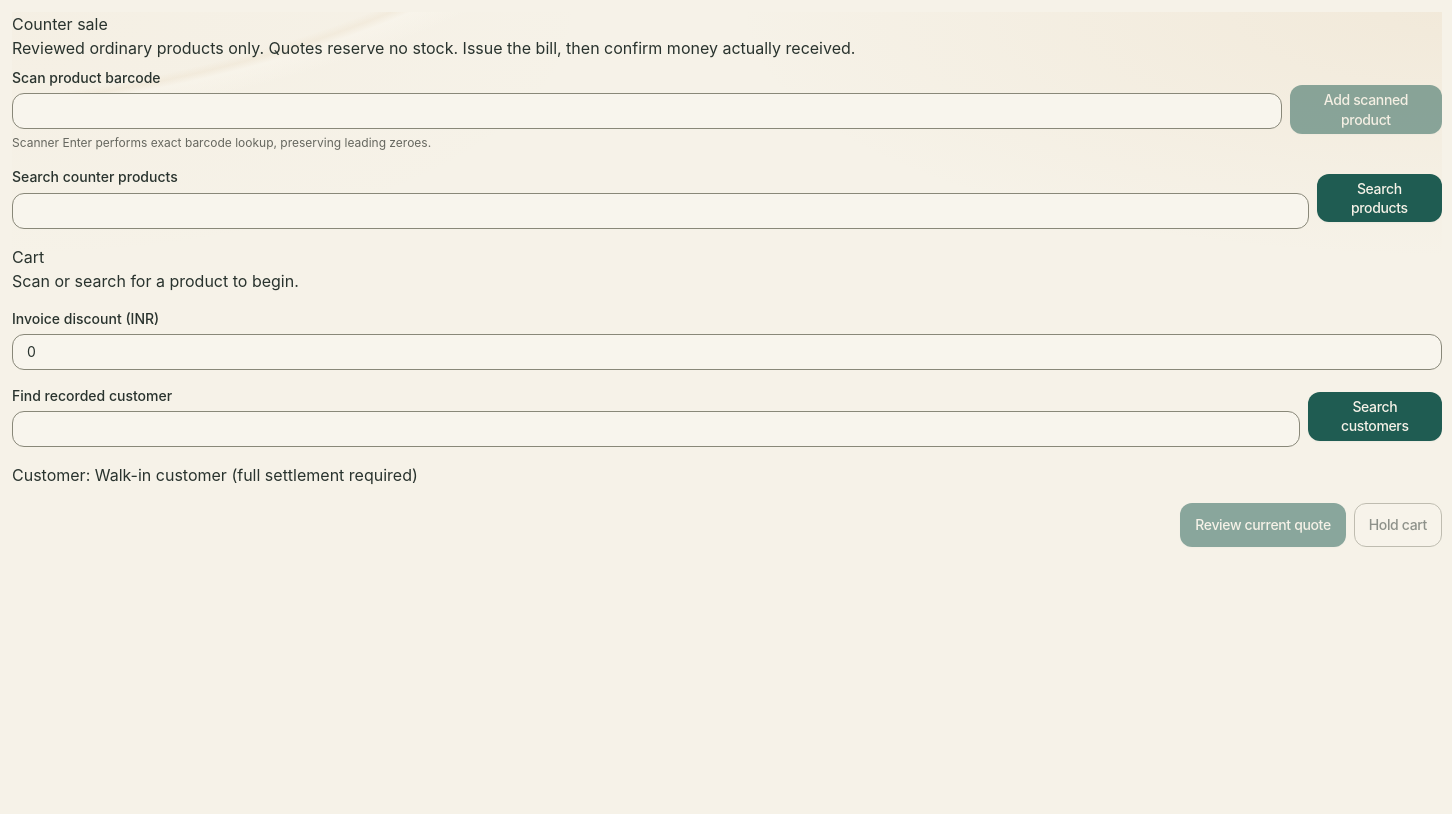
invalidates quote after edits, holds a cart without a write and requires a fresh quote on resume
In the field labelled "Scan product barcode": (647, 111) [12,93,1282,129], type "000123"
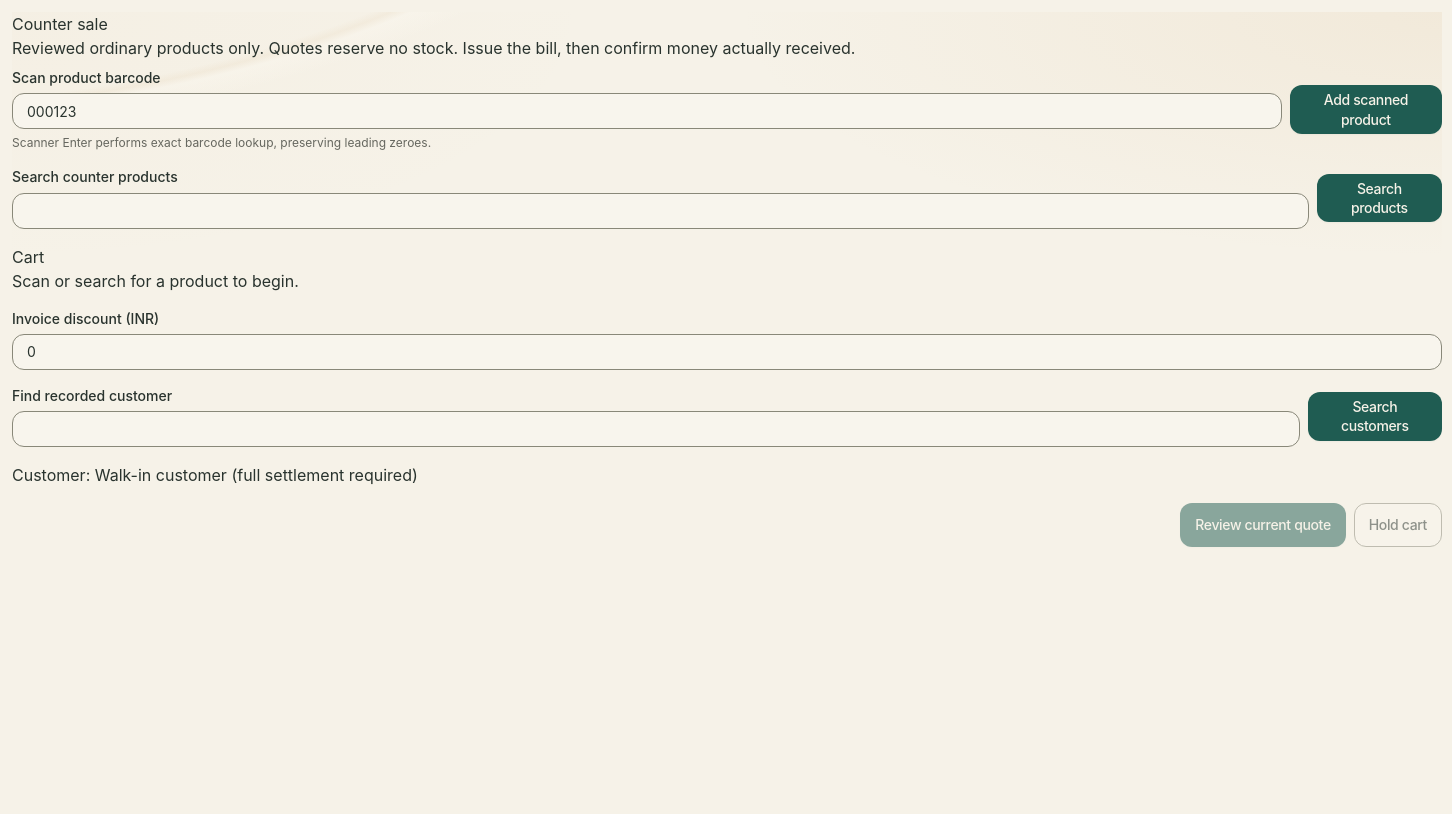
Submit the form labelled "Scan product barcode", box [12,68,1442,151]
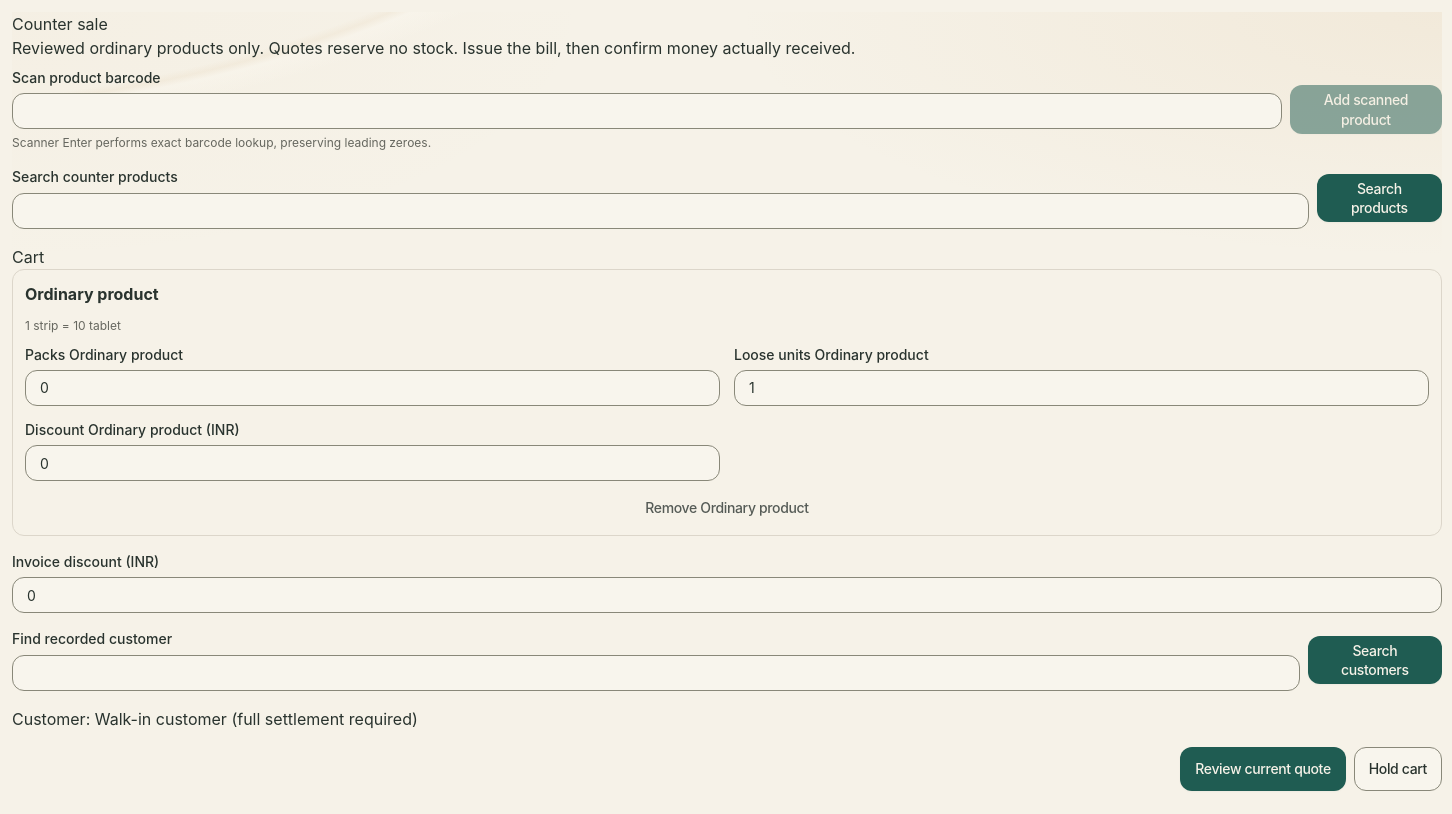
Expected: the number field labelled "Loose units Ordinary product" is shown, [734,370,1429,406]
Click the button "Review current quote": click(1263, 769) [1180,747,1346,791]
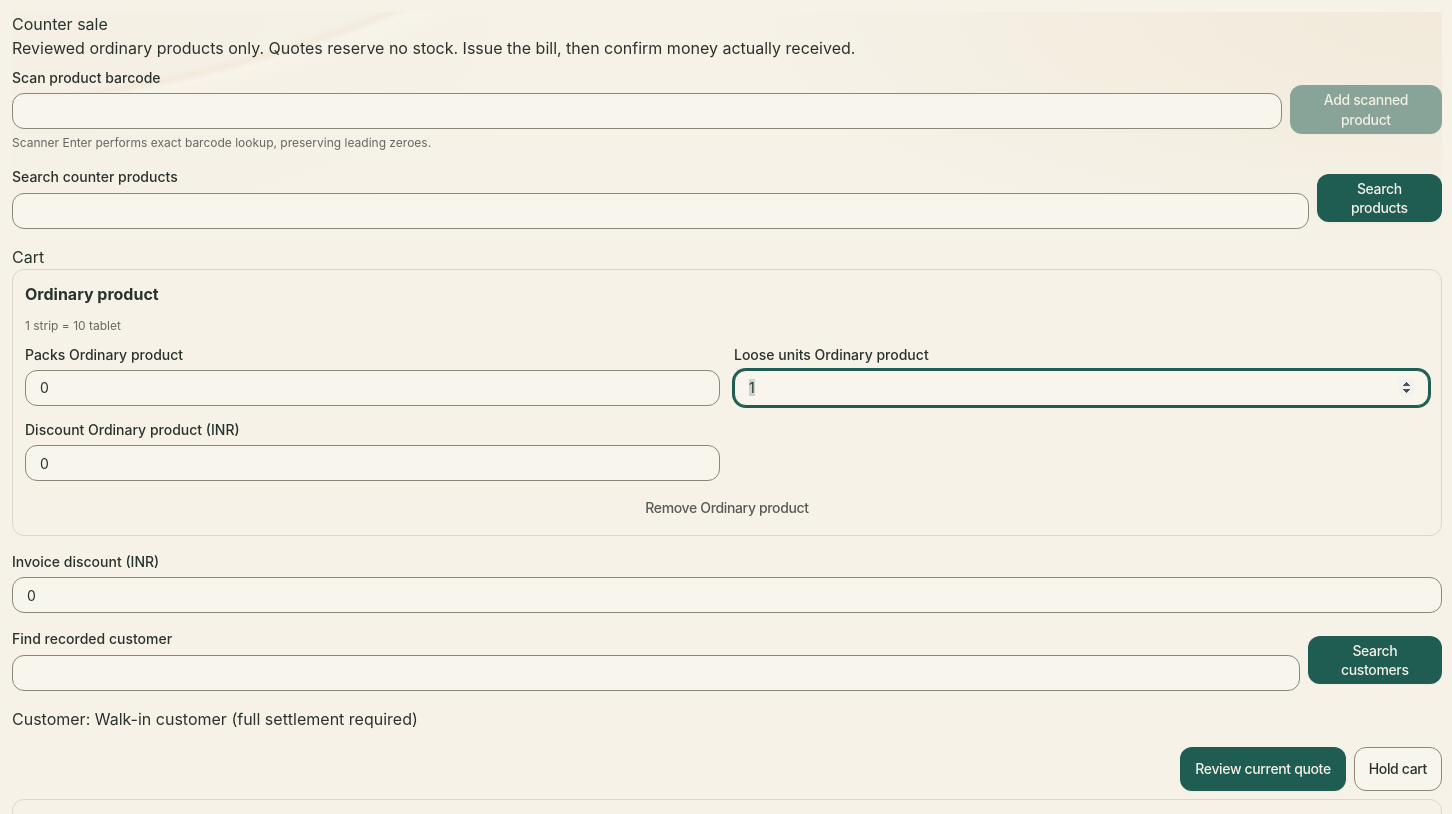
Replace the text in the number field labelled "Loose units Ordinary product" with "3": (1082, 388) [734,370,1429,406]
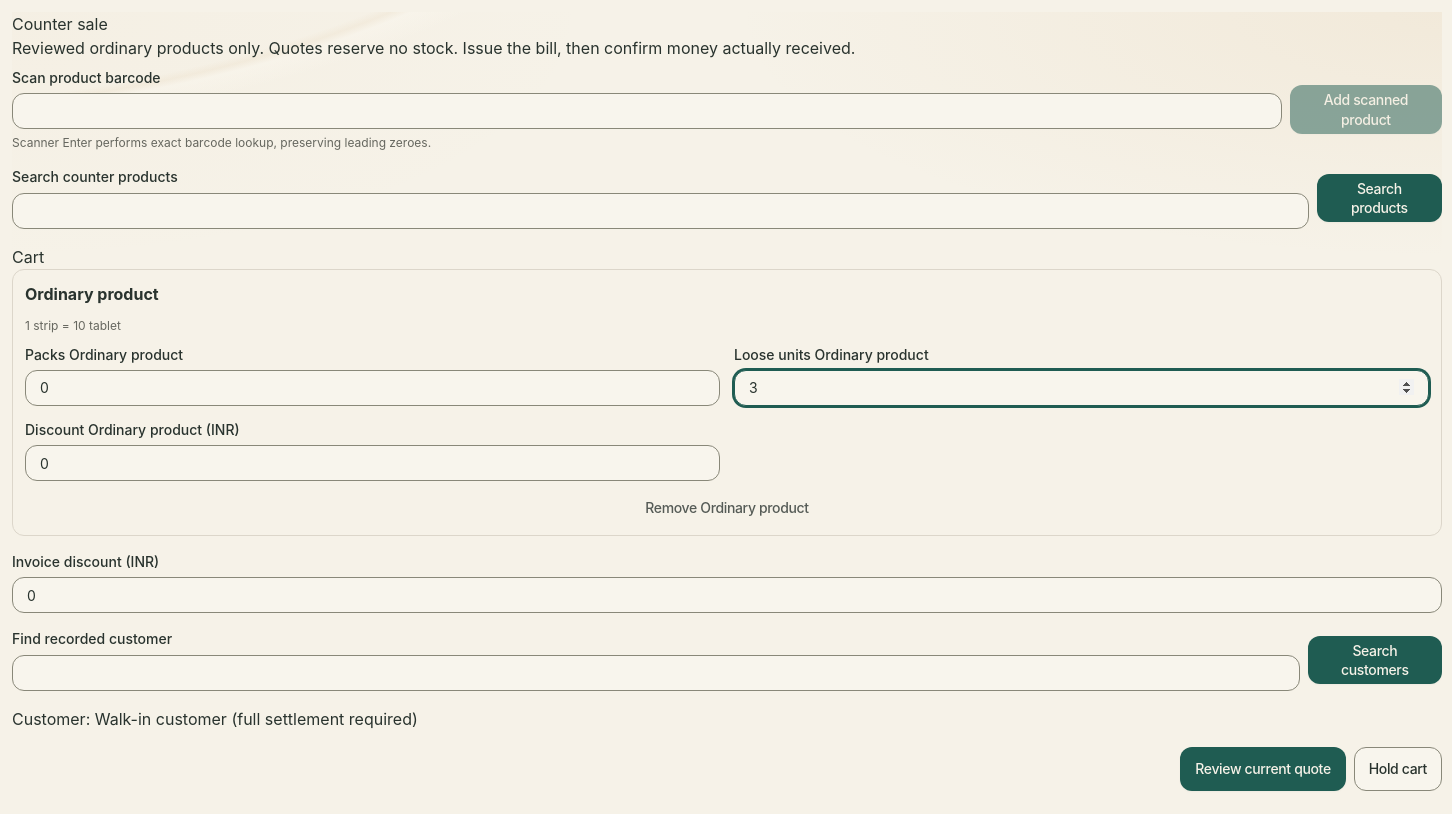
Click the button "Hold cart": click(1398, 769) [1354,747,1442,791]
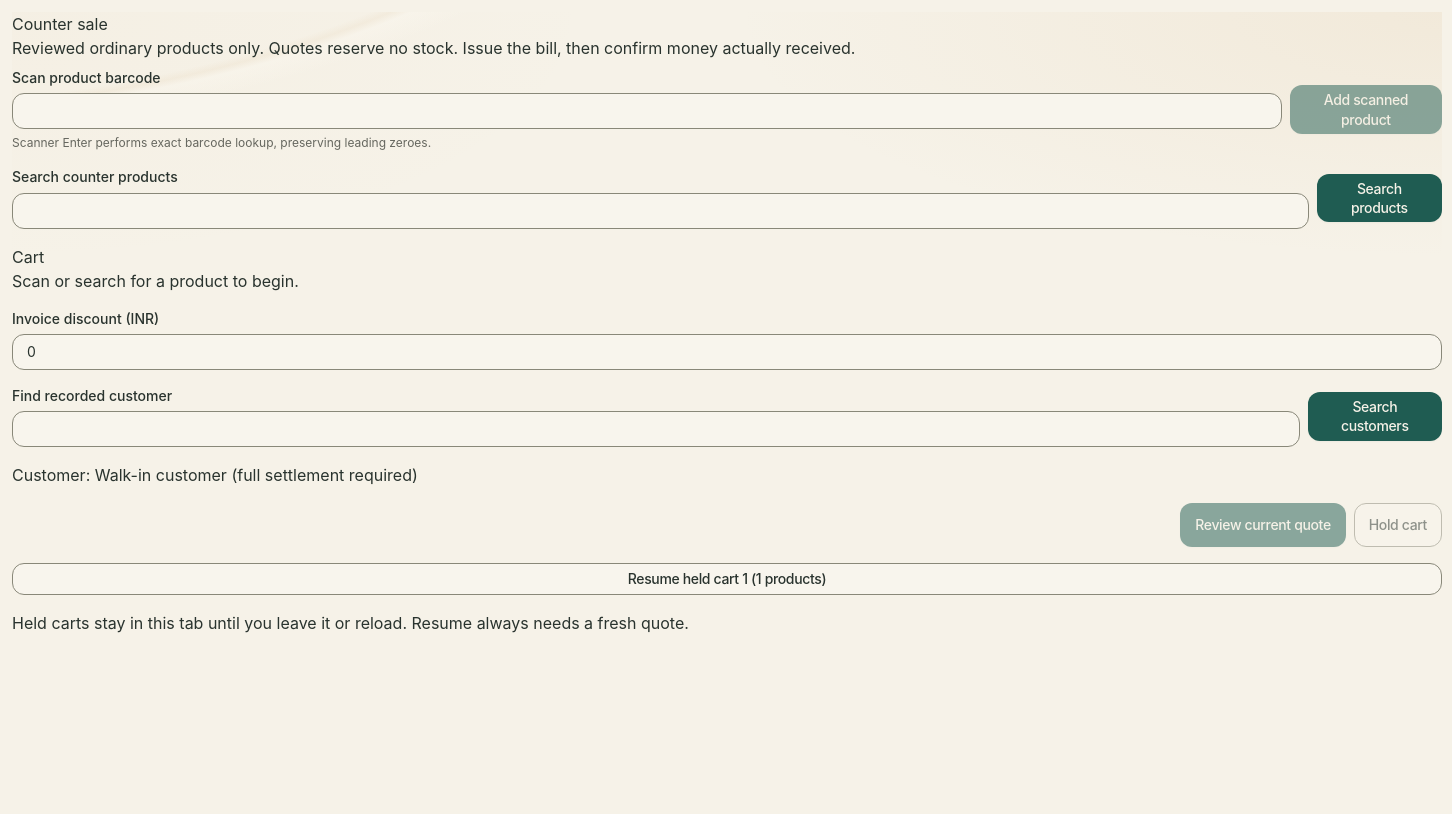
Expected: the label labelled "Loose units Ordinary product" is gone
Click the button "Resume held cart 1 (1 products)": click(727, 579) [12,563,1442,595]
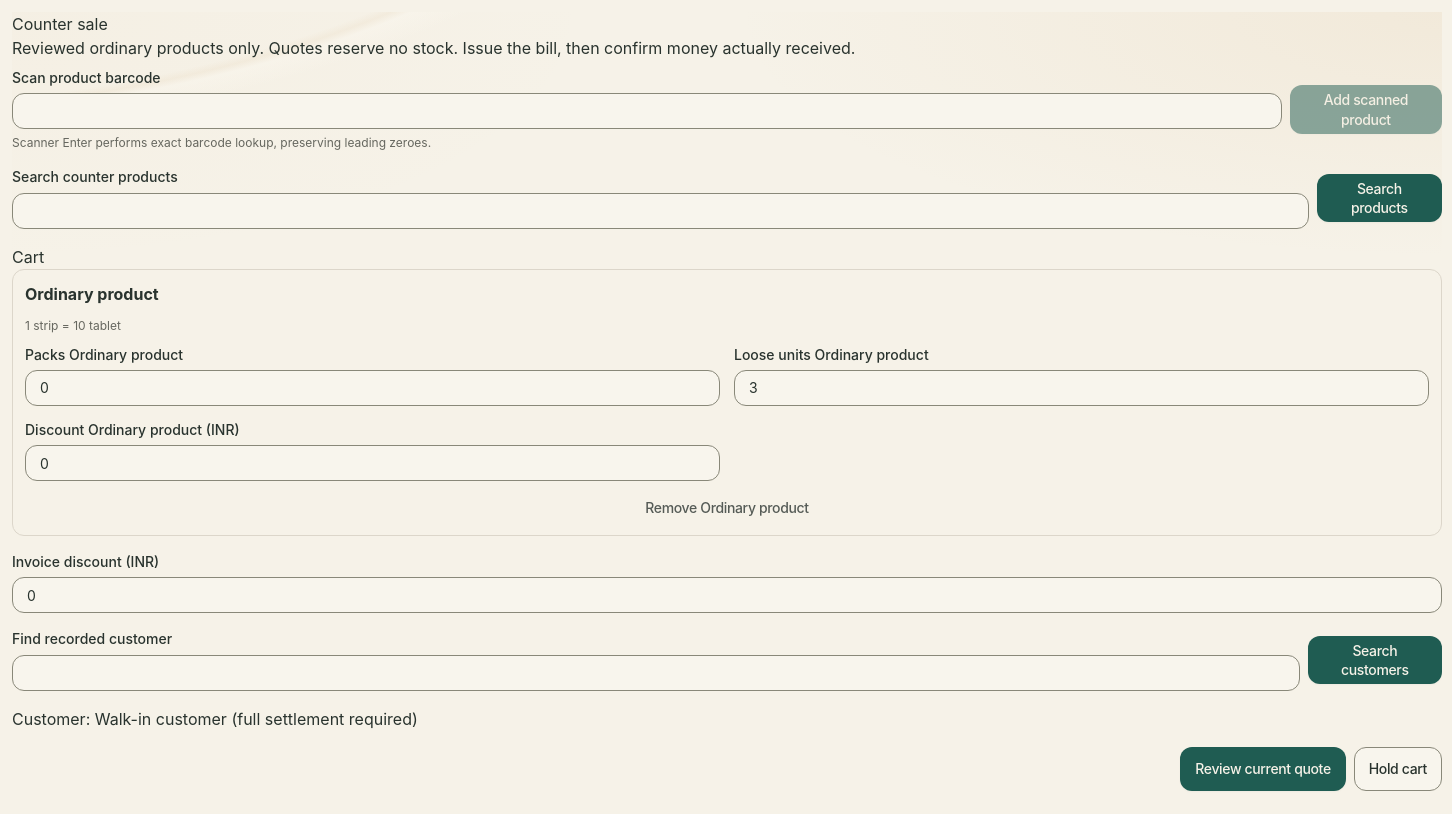
Expected: the number field labelled "Loose units Ordinary product" holds "3", [734,370,1429,406]
